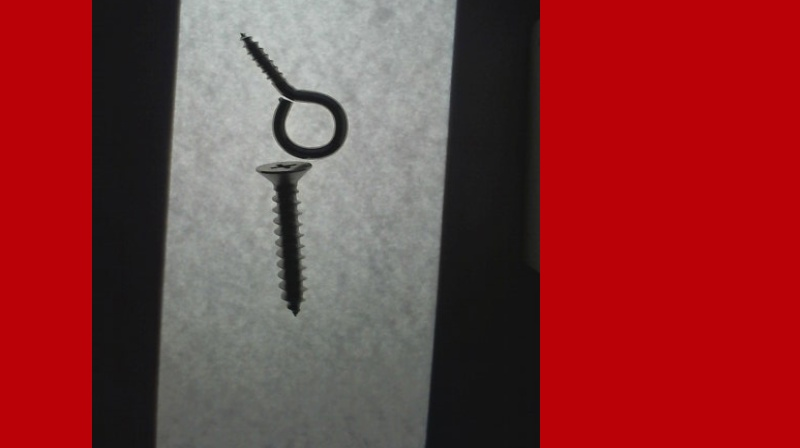O001: (236, 32, 346, 161)
S001: (254, 161, 315, 319)
